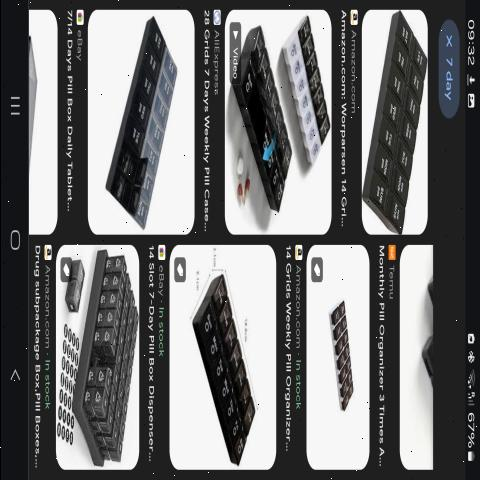PillBox: (90, 15, 180, 224), (178, 249, 264, 467), (362, 11, 432, 257), (228, 16, 290, 222), (328, 300, 362, 422)
